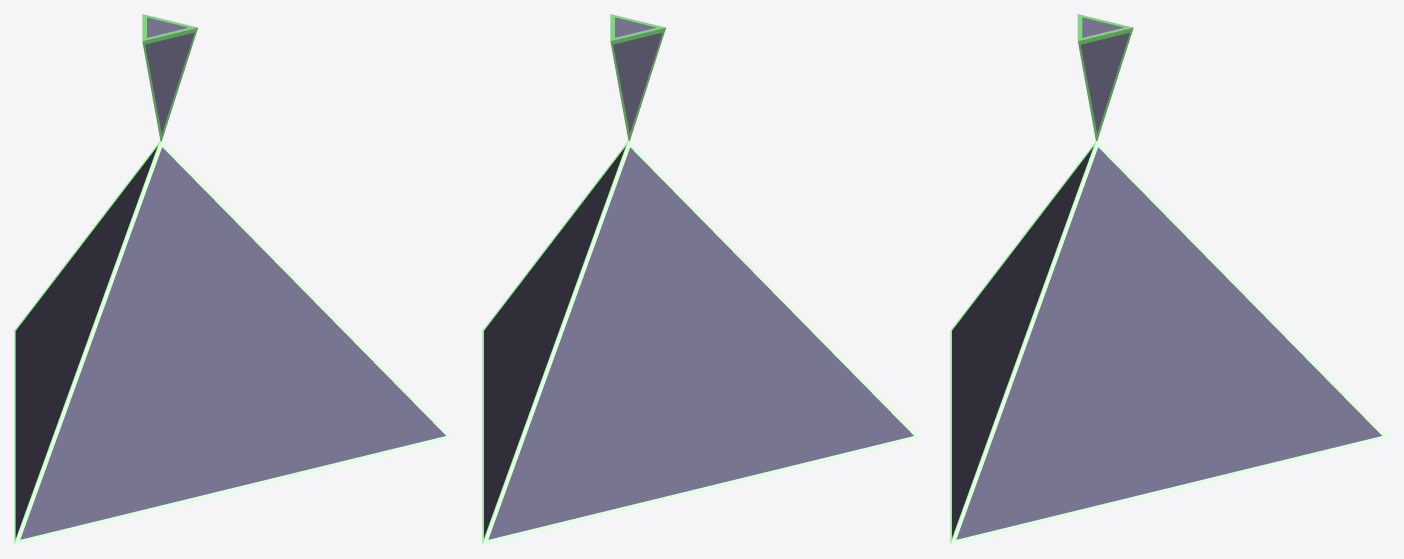
File: REC_Stage2_Hatinosu.fbx
The picture shows the model from 3 angles, left to right: view 1: azimuth 30°, elevation 25°; view 2: azimuth 150°, elevation 25°; view 3: azimuth 270°, elevation 25°; orthographic projection.
Parts seen in each view (by area): view 1: Hatinosu; view 2: Hatinosu; view 3: Hatinosu.
Part boxes in pixels (left/top/right/bottom): Hatinosu: left=14, top=14, right=453, bottom=544; Hatinosu: left=482, top=14, right=921, bottom=544; Hatinosu: left=950, top=14, right=1389, bottom=544.
Size of the model in its own units: 72.28 by 64.5 by 62.6.
